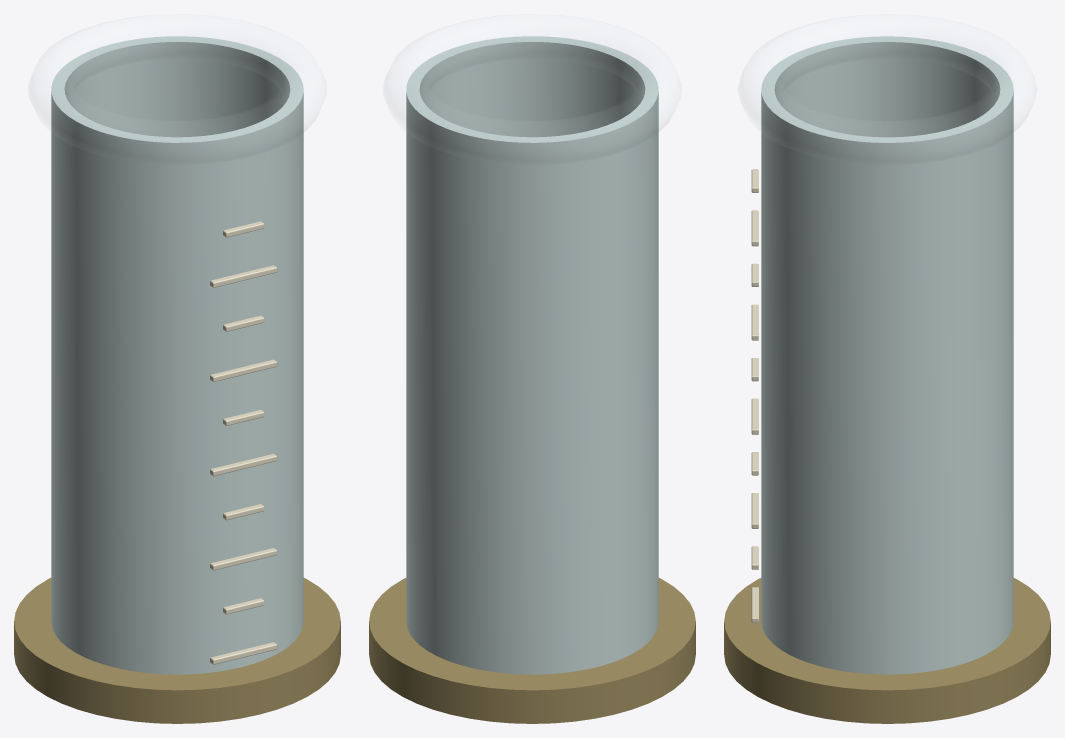
File: water-clock-garden-and-hydraulic-puzzles-drip-catch-me-b0d2f448__31962.glb
The picture shows the model from 3 angles, left to right: view 1: azimuth 30°, elevation 25°; view 2: azimuth 150°, elevation 25°; view 3: azimuth 270°, elevation 25°; orthographic projection.
Parts seen in each view (by area): view 1: drip-catch-measuring-cylinder; view 2: drip-catch-measuring-cylinder; view 3: drip-catch-measuring-cylinder.
Part boxes in pixels (x1,y1,x2,y2): drip-catch-measuring-cylinder: (14,36,340,723); drip-catch-measuring-cylinder: (369,36,695,723); drip-catch-measuring-cylinder: (724,36,1050,723).
Bounding box in the file's own units: 0.22 × 0.436 × 0.22.
